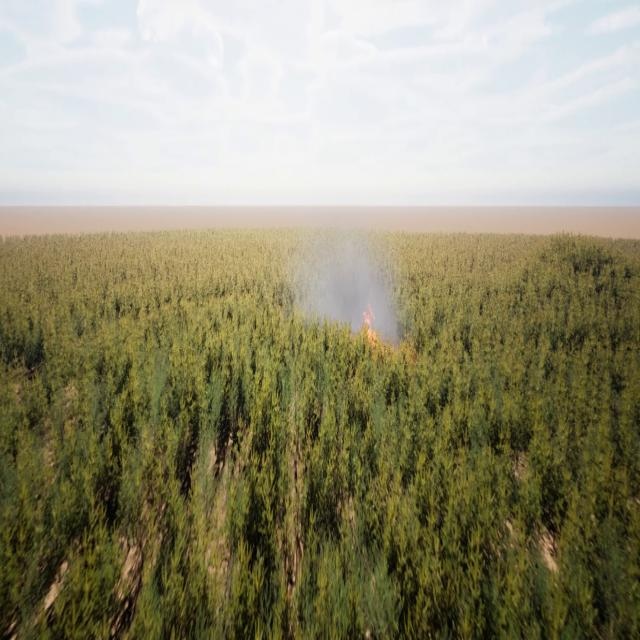fire: (358, 300, 378, 344)
smoke: (294, 223, 400, 359)
